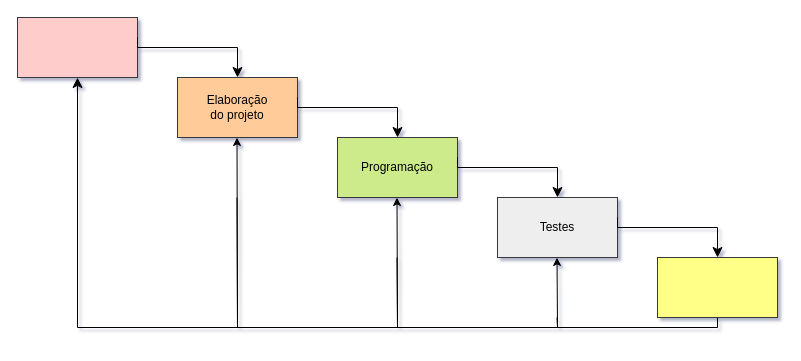
Image size: 801x361. Some labels were removed from this diagram. The centre of each missing label's shape, as x and y in pixels:
"Implementação" goes at point 717,287.
"Levantamento de requisitos" goes at point 77,47.
